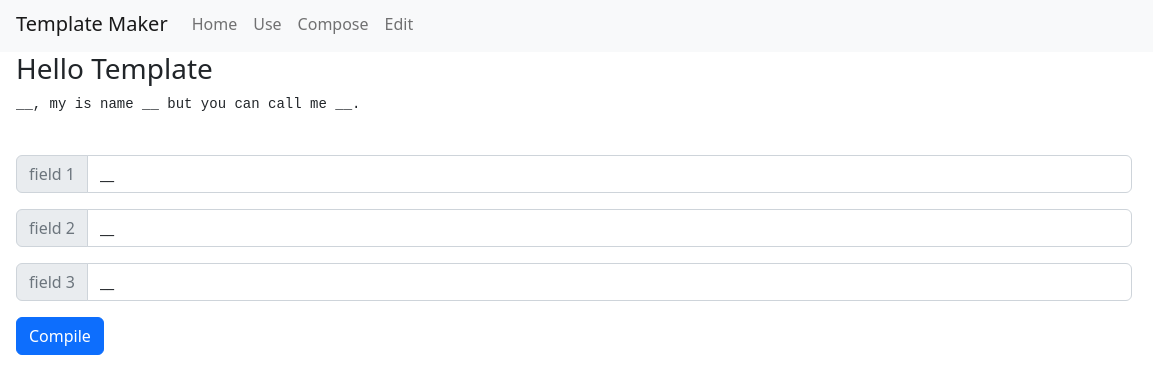
Test case: Template Composition › creates a compilation of the static text and fields
Type "Dave" into the 1st field. click: (610, 174)
box: x1=87 y1=155 x2=1132 y2=193
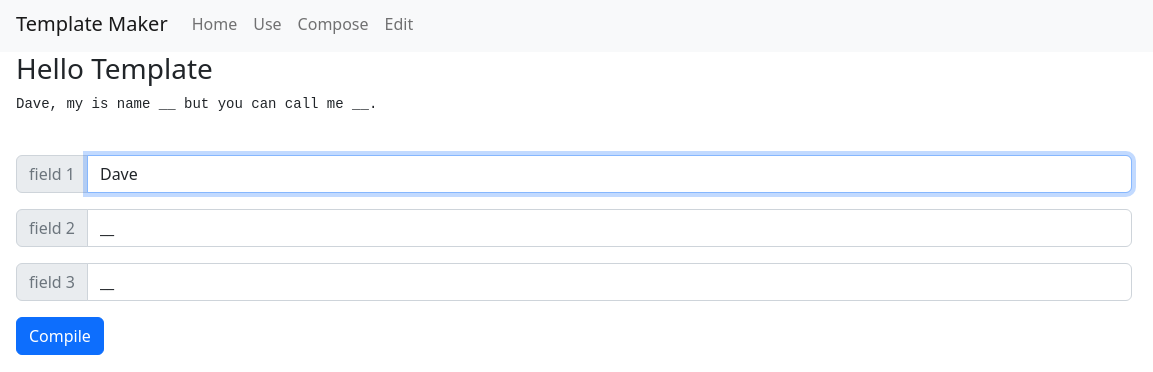
Type "John" into the 2nd field. click: (610, 228)
box: x1=87 y1=209 x2=1132 y2=247
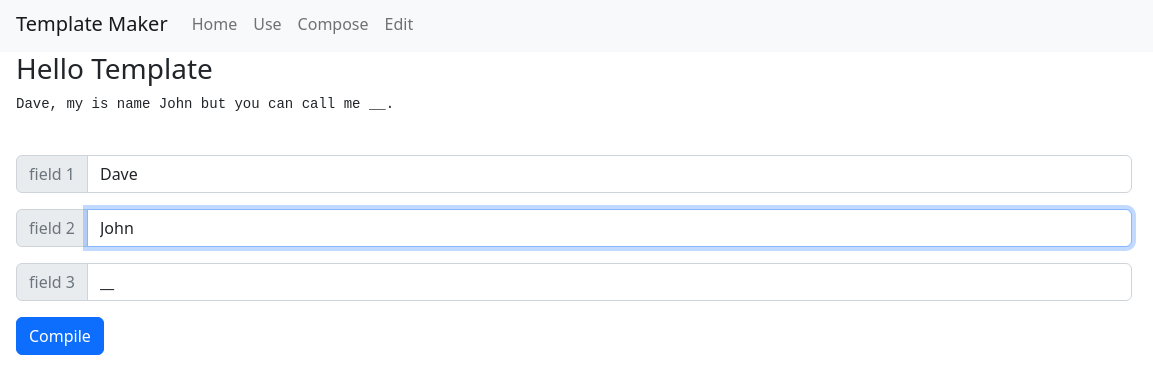
Type "Tom" into the 3rd field. click: (610, 282)
box: x1=87 y1=263 x2=1132 y2=301
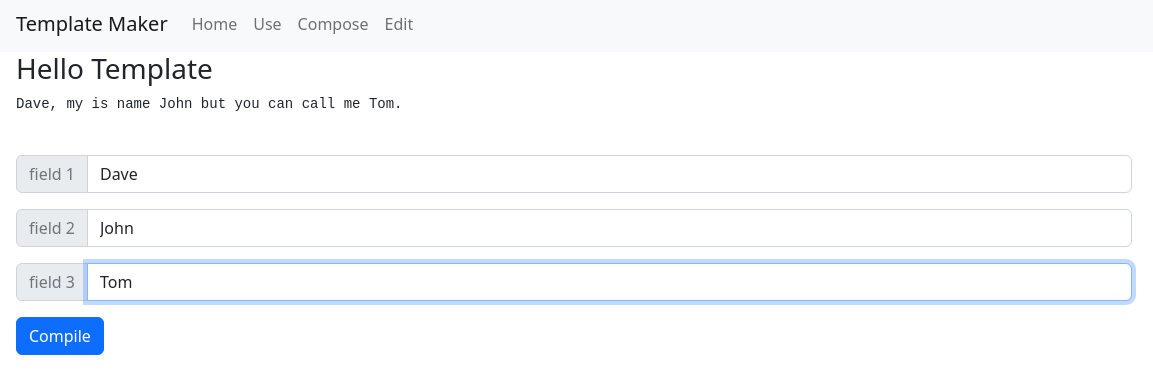
Click the submit button. click: click(60, 336)
box: x1=16 y1=317 x2=104 y2=355
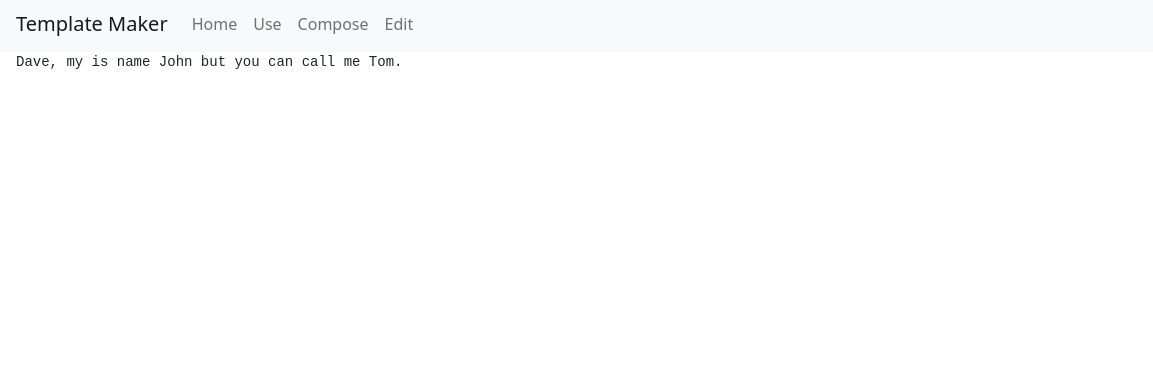
Now the text "Dave, my is name John but you can call me Tom." is shown, box x1=16 y1=54 x2=402 y2=70
